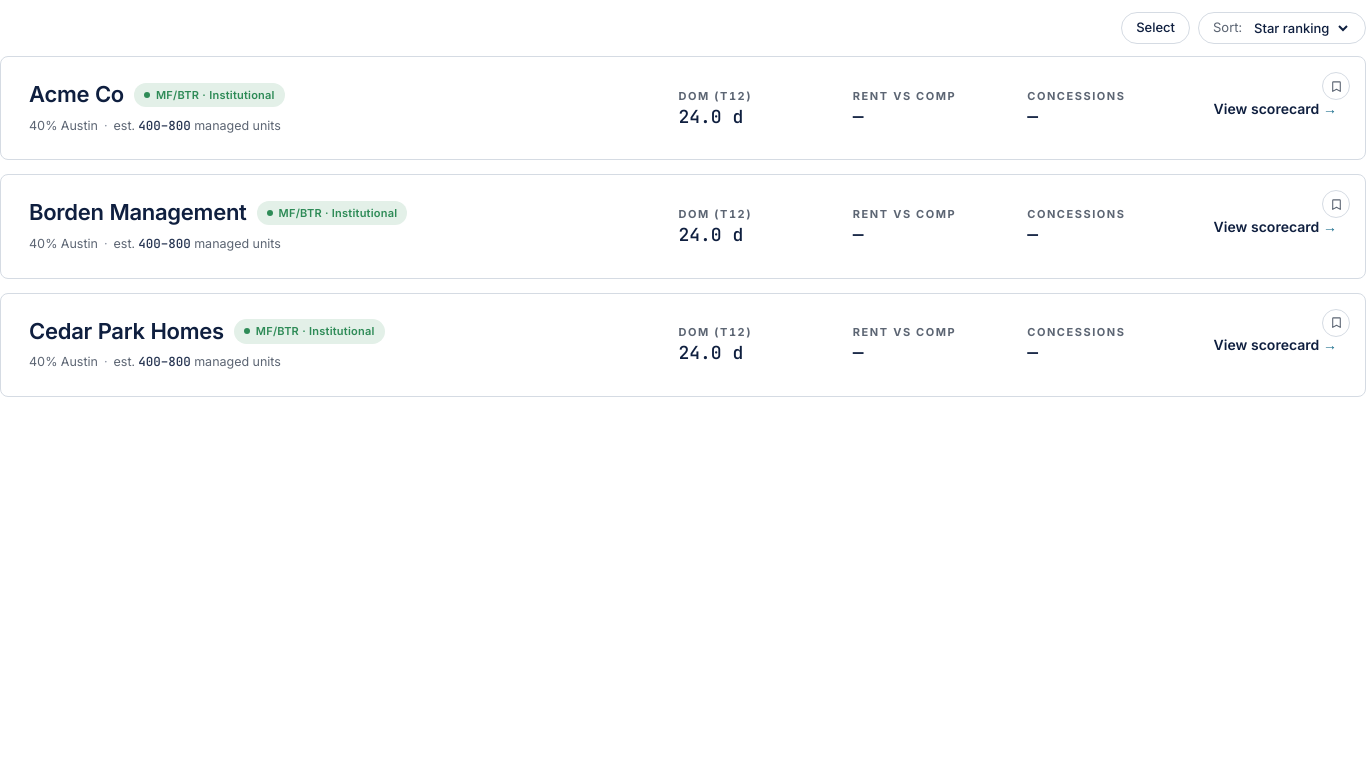
Test case: RankedOperatorList — multi-select roster builder › Select reveals a per-row checkbox; selecting two shows a '2 selected' action bar
Click the button "Select" at (1156, 28), box [1121, 12, 1190, 44]
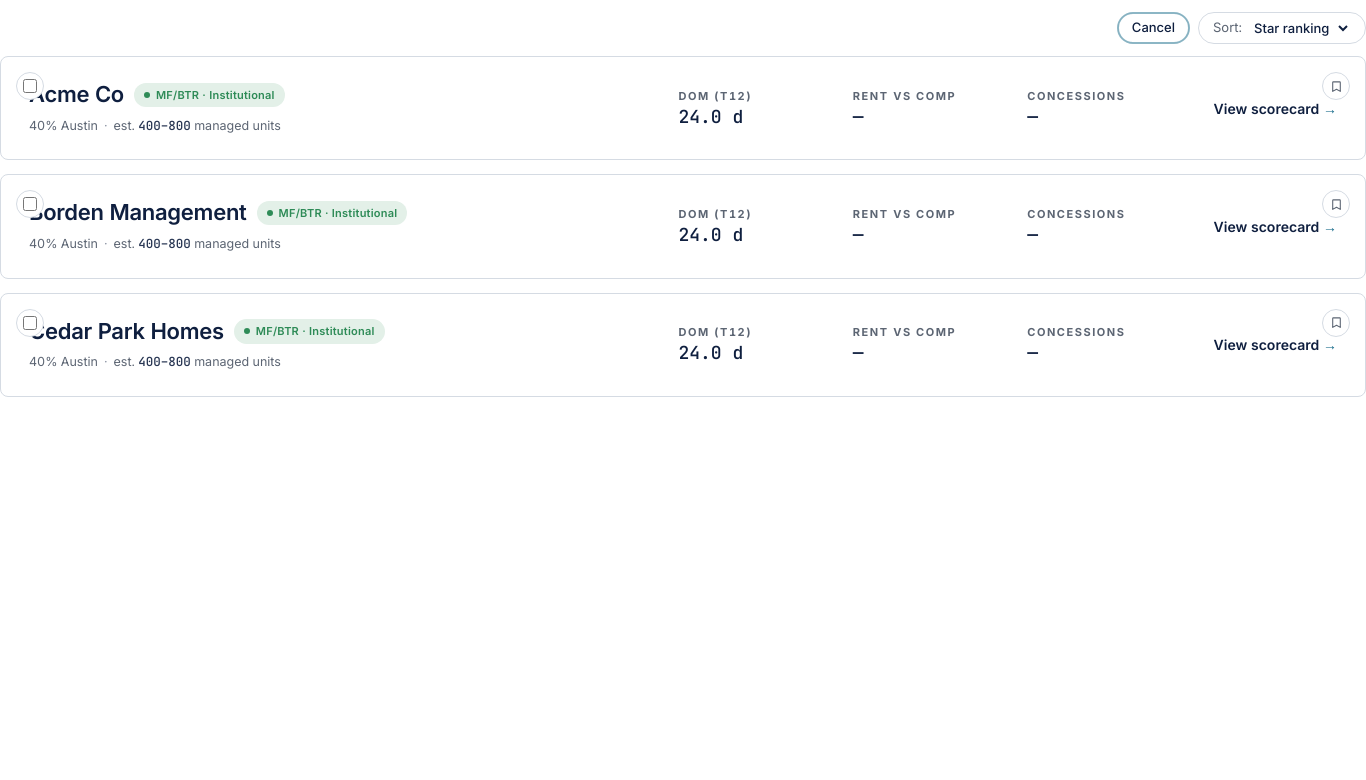
Now the number of checkboxes is 3
Click the checkbox named "Acme Co" at (30, 86), box [23, 79, 37, 93]
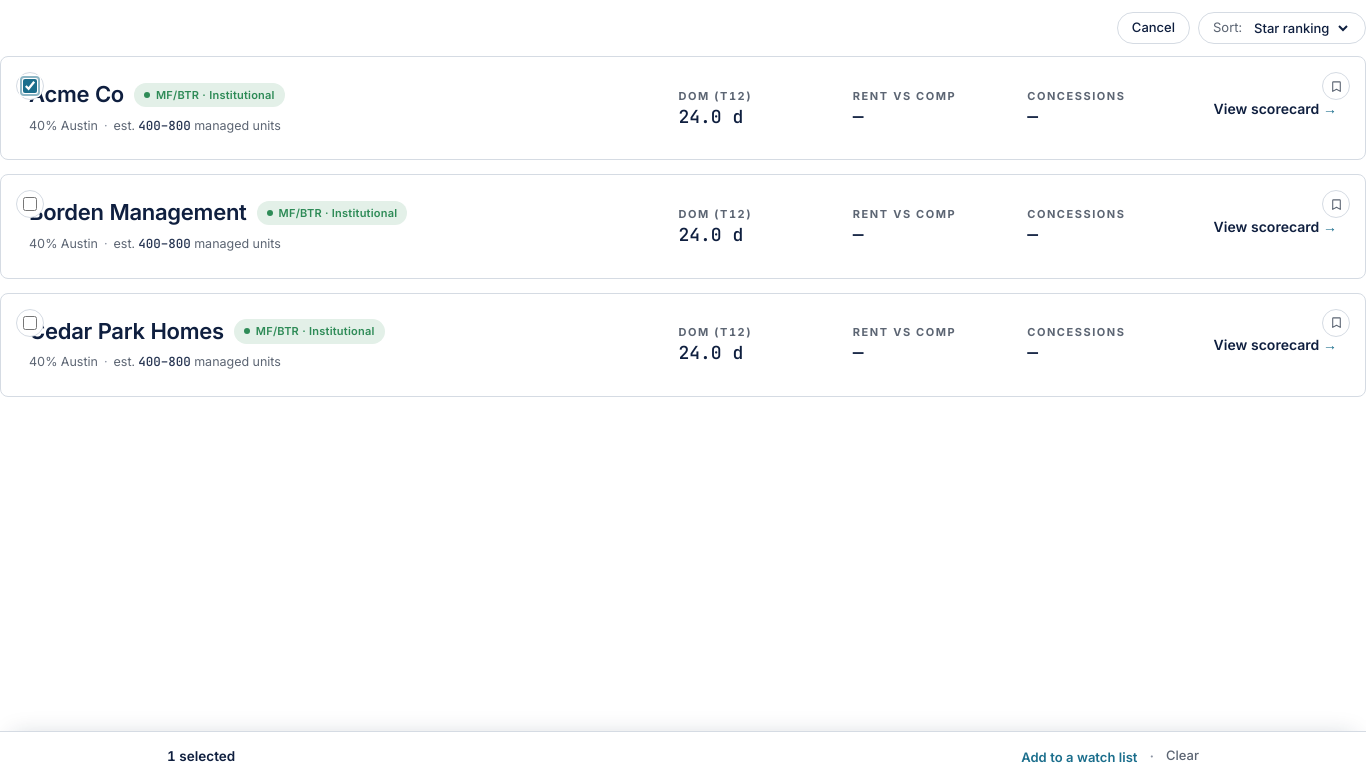
Click the checkbox named "Borden Management" at (30, 204), box [23, 197, 37, 211]
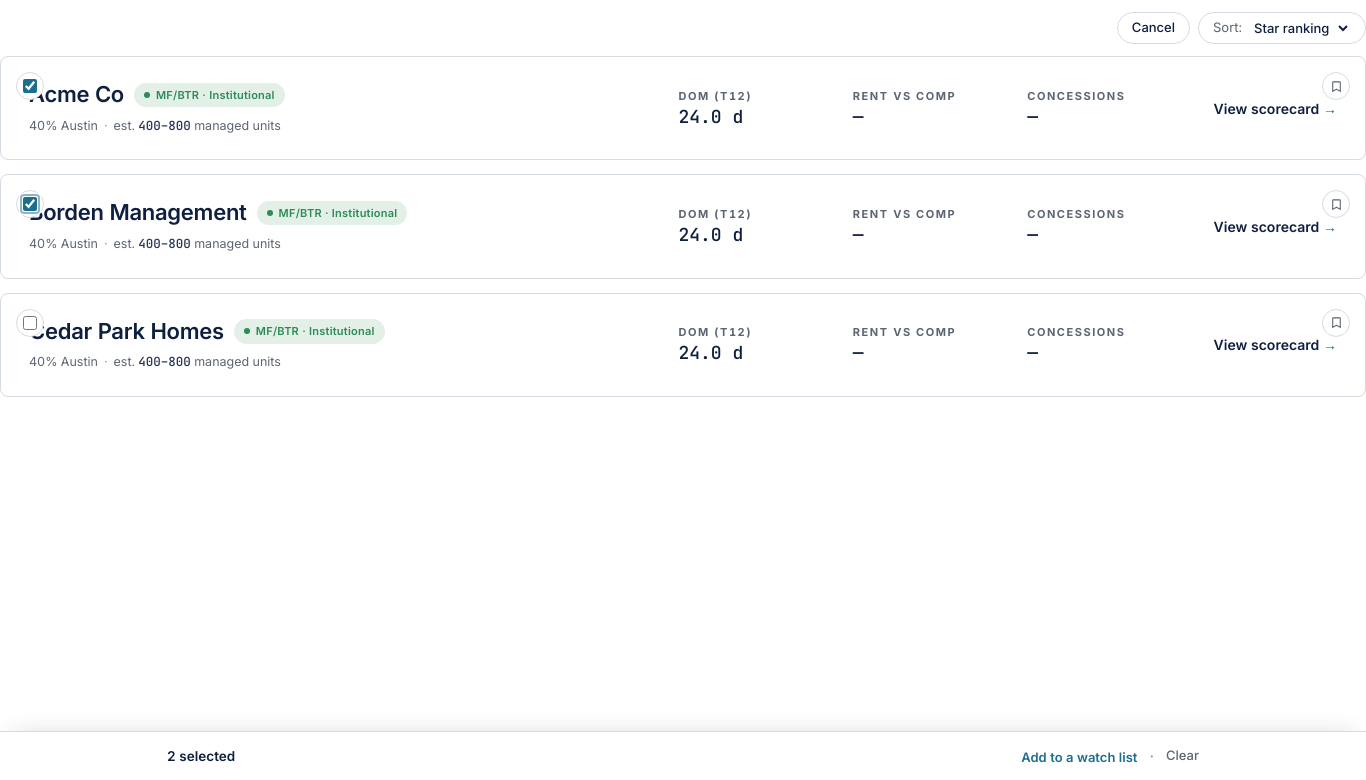
Now the text "2 selected" is shown, box [167, 746, 235, 766]
